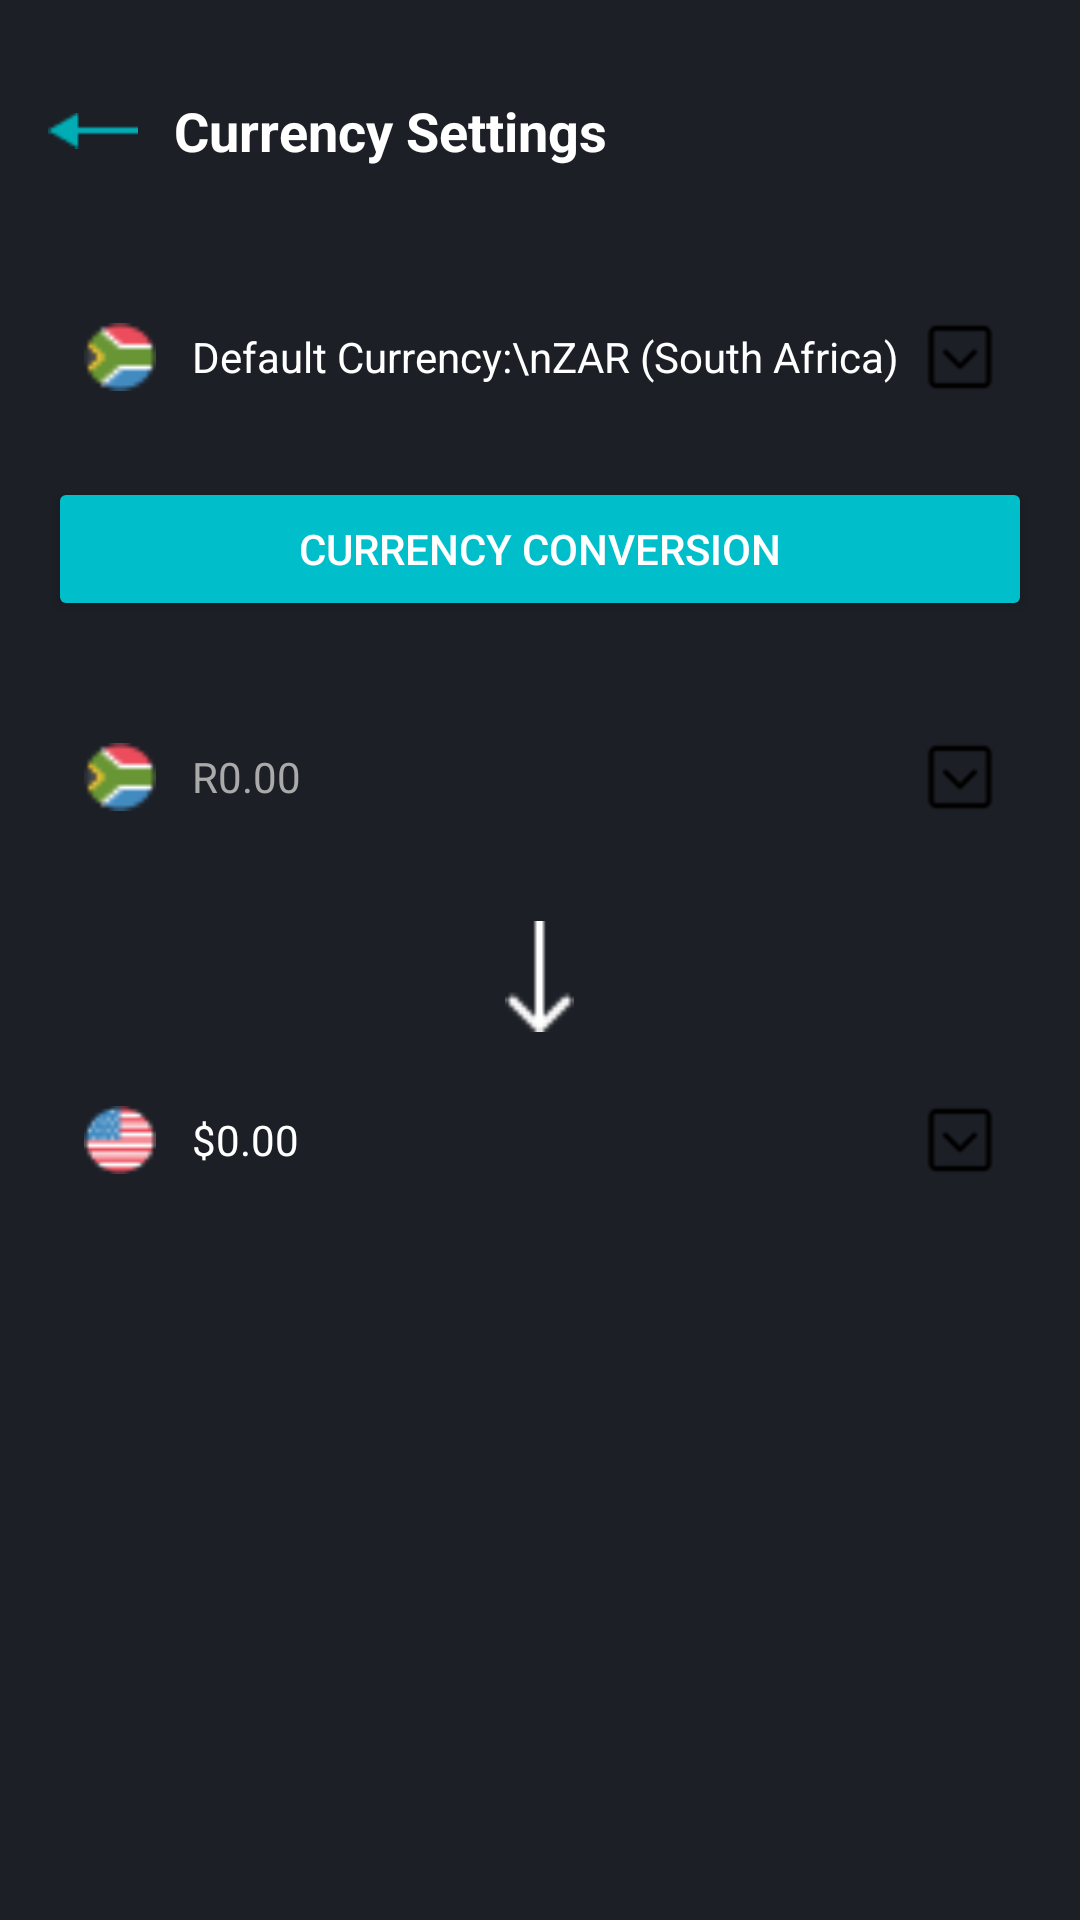

Icon bounding boxes for this 1080w x 1920h phone screenshot, format (x1,y1,x2,y2):
Arrow: (505,921,574,1032)
Back: (48,113,138,149)
Dropdown: (929,326,991,388), (929,746,991,808), (929,1109,991,1171)
SA Flag: (87,323,156,391), (87,743,156,811)
US Flag: (84,1106,156,1174)
